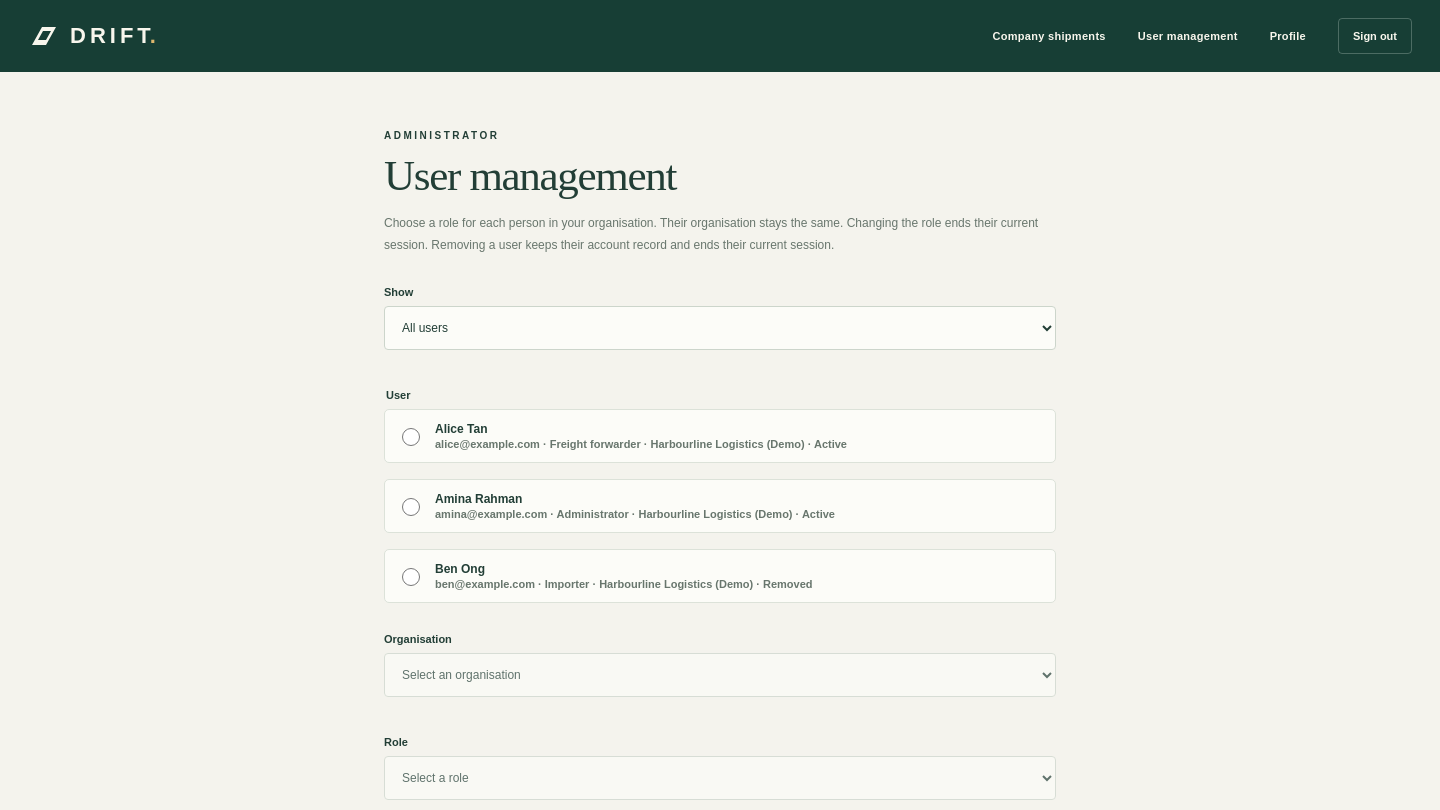
Test: user management › shows the assignment history after a change is saved
Click the radio button labelled "Alice Tan": (411, 437) [402,428,420,446]
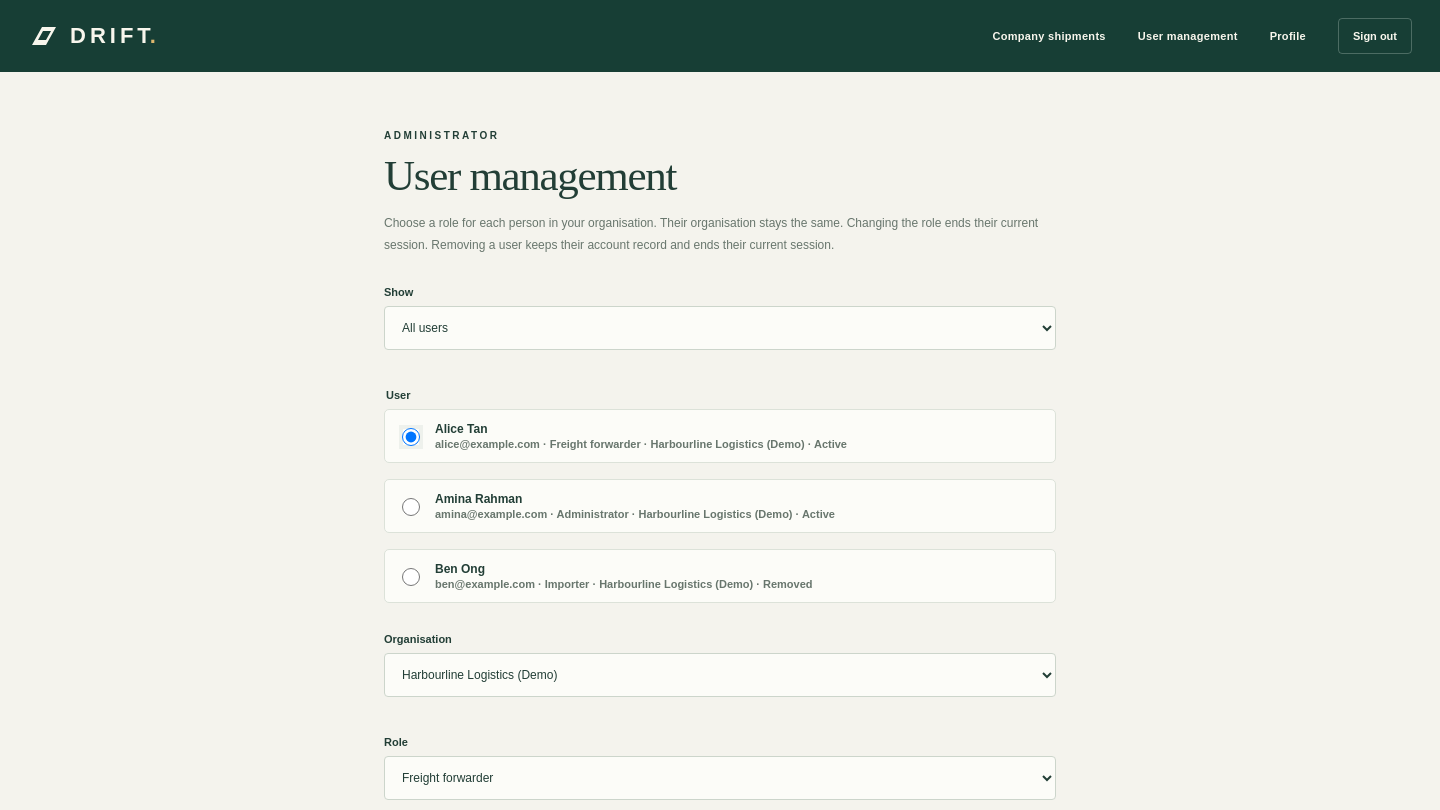
Select "Straits Fresh Imports (Demo)" in the dropdown labelled "Organisation": (720, 675) [384,653,1056,697]
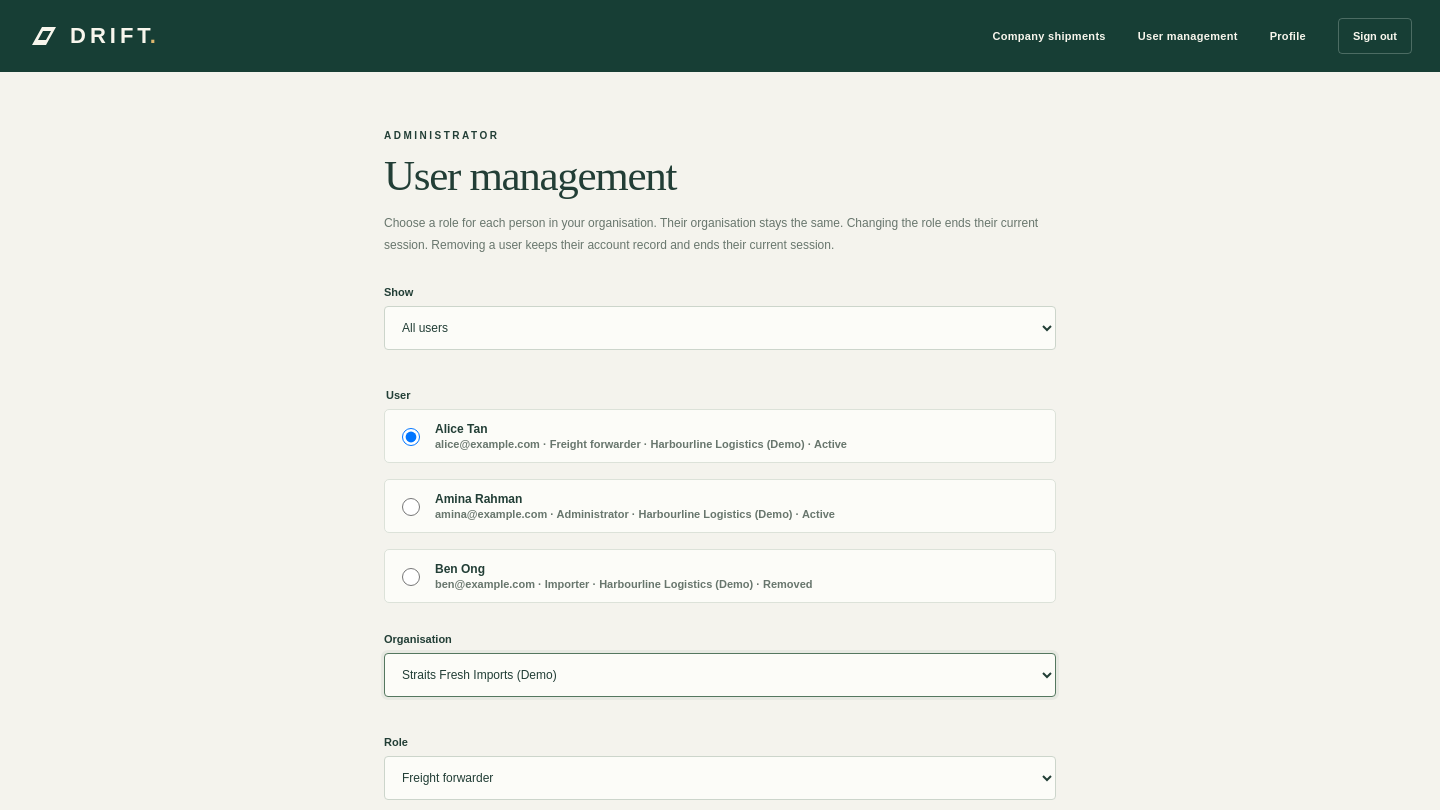
Select "Importer" in the dropdown labelled "Role": (720, 778) [384,756,1056,800]
(page scrolled)
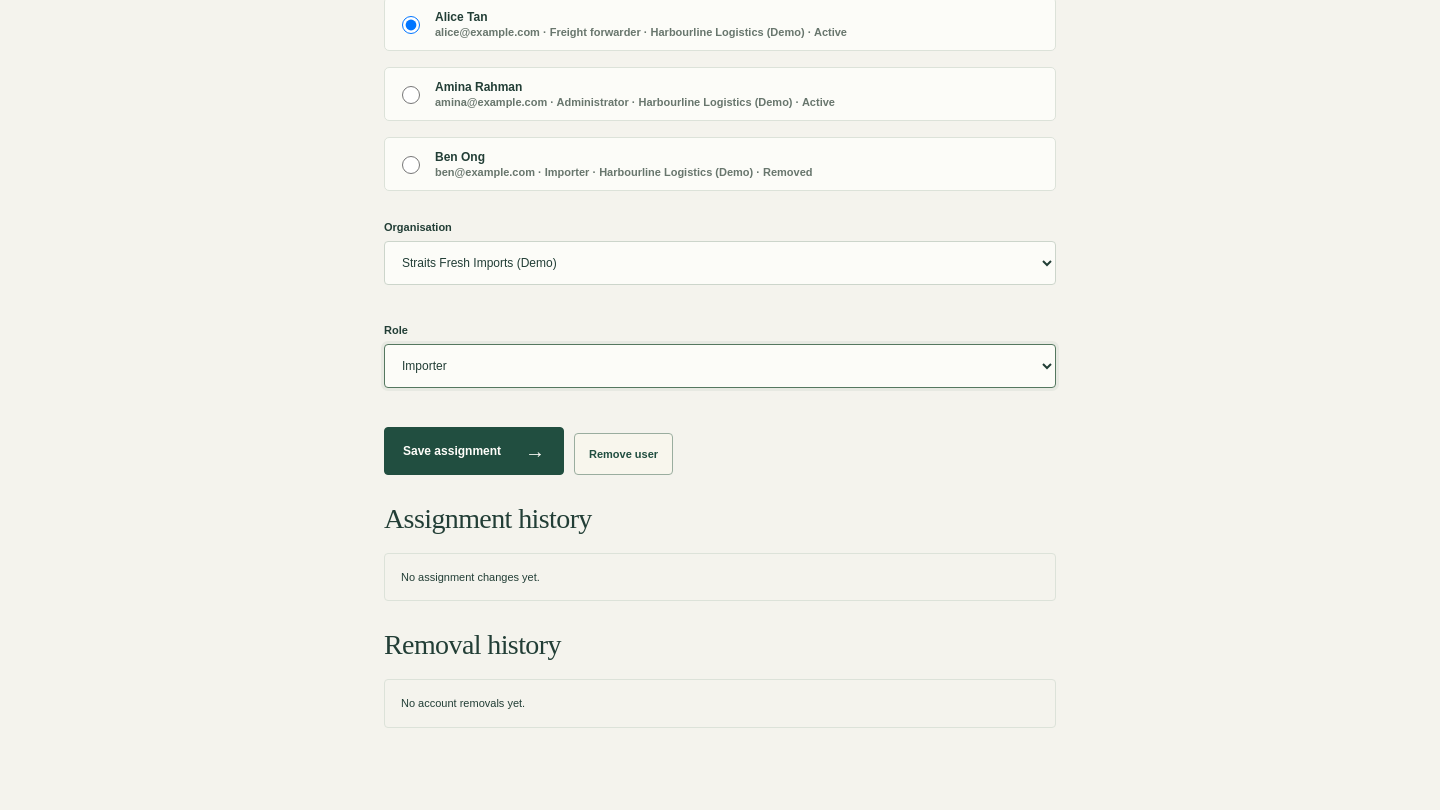
Click the button "Save assignment →": (474, 451) [384,427,564,475]
(page scrolled)
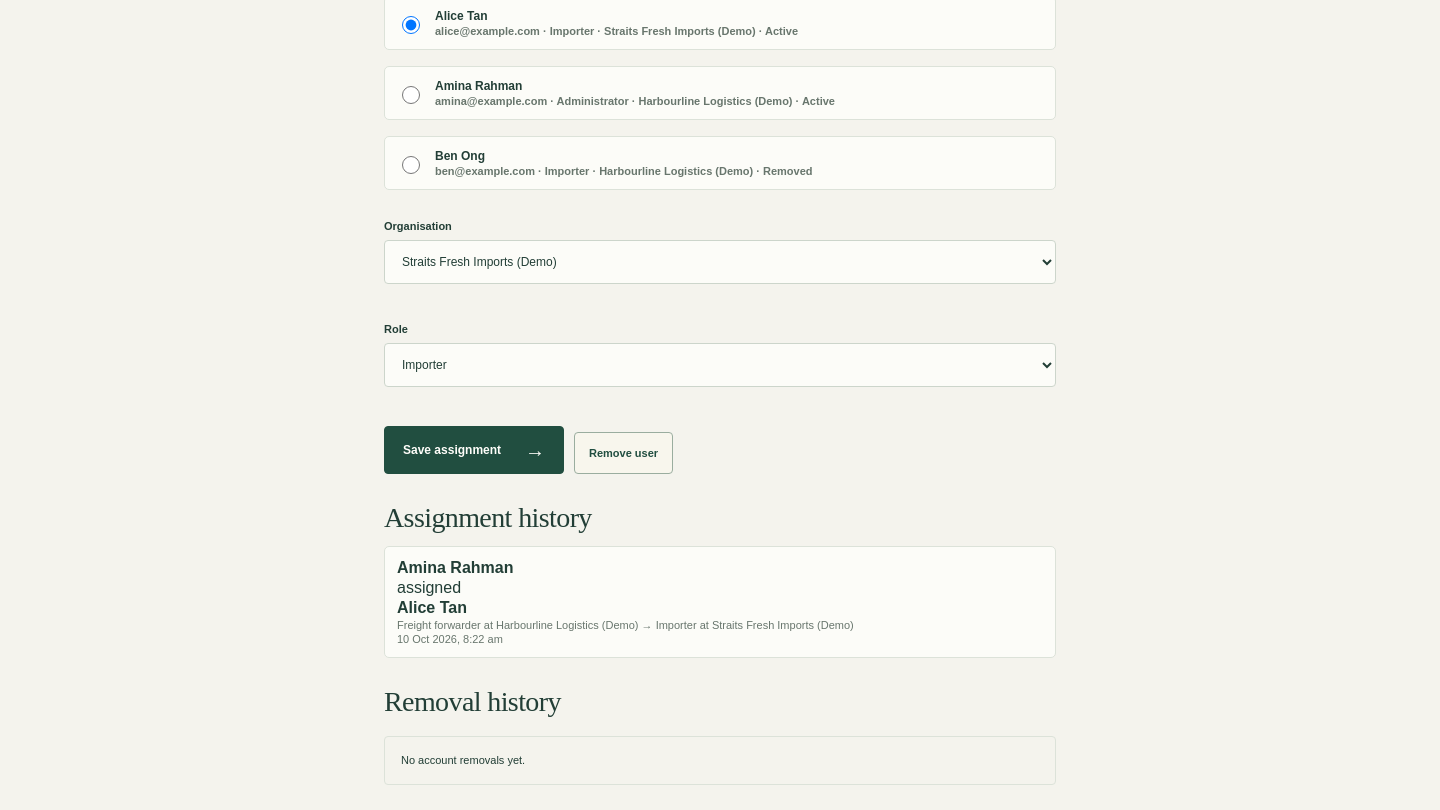
Expected: the heading "Assignment history" is shown, [384,502,592,533]
Expected: the text "Freight forwarder at Harbourline Logistics (Demo) → Importer at Straits Fresh Imports (Demo)" is shown, [397,619,854,631]
Expected: the text "No assignment changes yet." is gone
